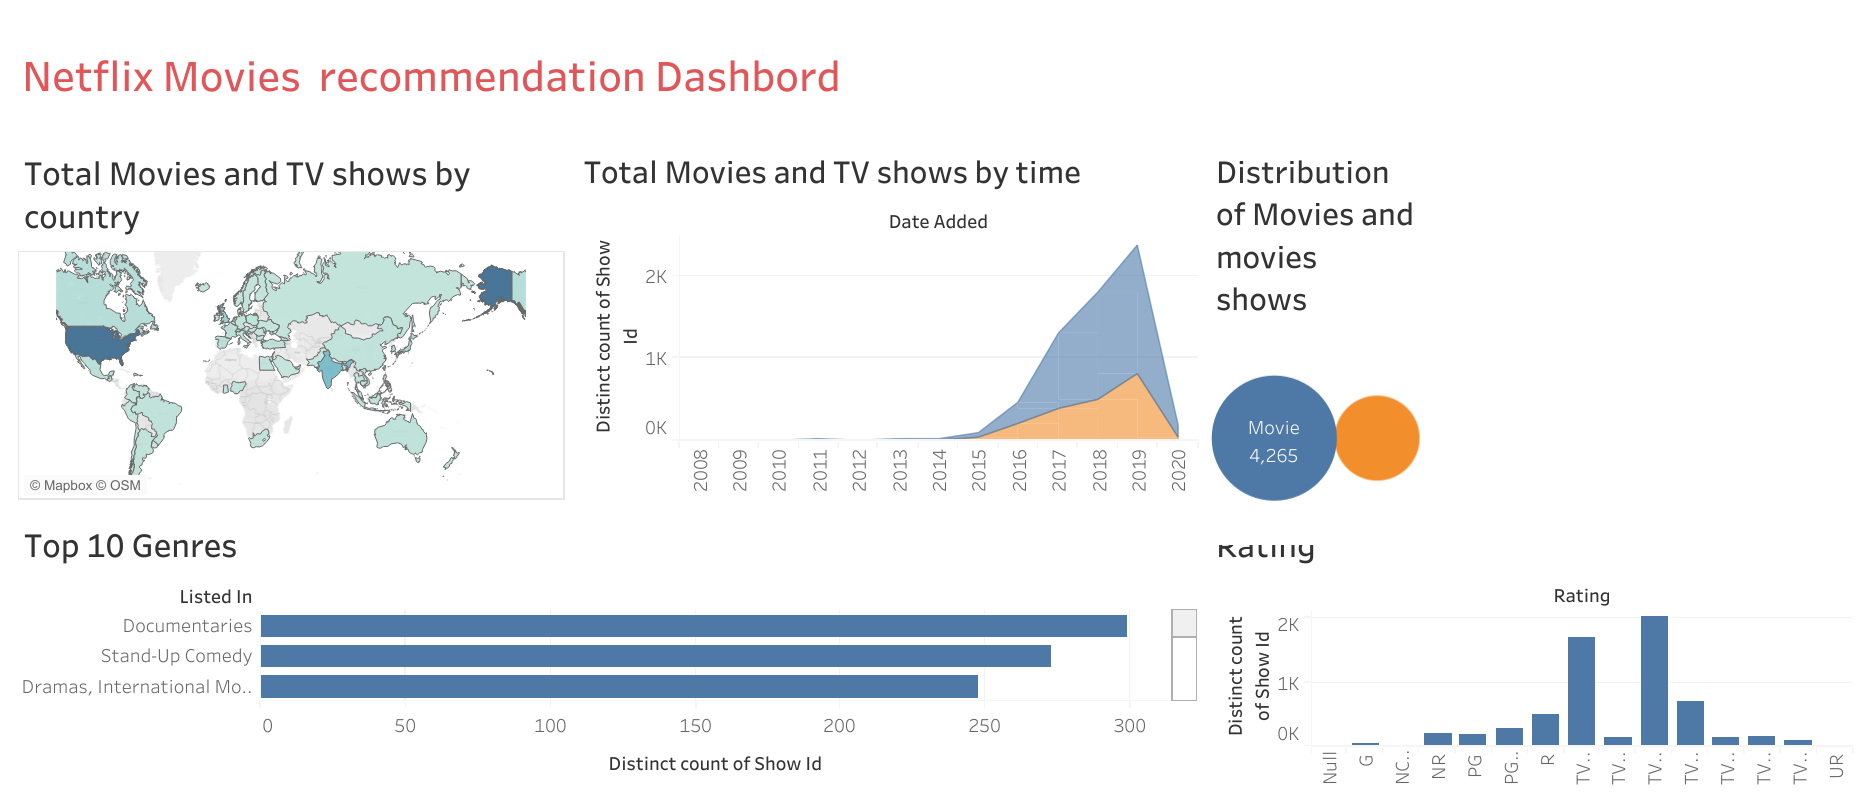

This screenshot's page, from the dashboard's own definition file:
{"tool":"tableau","page":{"name":"Dashboard 1","canvas":[1000,1000],"units":"permille","ordinal":0},"visuals":[{"type":"title","box":[4.8,8.8,990.3,89.2]},{"type":"worksheet","title":"Sheet 2","mark":"Automatic","box":[4.8,98,300.4,504.9]},{"type":"worksheet","title":"Sheet 1","mark":"Area","rows":["show_id"],"cols":["date_added"],"box":[305.2,98,338.5,504.9]},{"type":"worksheet","title":"Sheet 4","mark":"Circle","box":[643.8,98,351.4,504.7]},{"type":"worksheet","title":"Sheet 5","mark":"Automatic","rows":["show_id"],"cols":["rating"],"box":[643.8,602.8,351.4,388.4]},{"type":"worksheet","title":"Sheet 3","mark":"Automatic","rows":["listed_in"],"cols":["show_id"],"box":[4.8,602.9,638.9,388.3]}]}

Visuals, with their boxes on the dashboard's canvas, which has no fixed pixel size, in thousandths of its width and height (x1, y1, x2, y2). These are canvas units, not pixel positions in the 1869x803 screenshot, which may show the page scaled, cropped or inside an application window:
title: (5, 9, 995, 98)
"Sheet 2" worksheet: (5, 98, 305, 603)
"Sheet 1" worksheet (Area marks): (305, 98, 644, 603)
"Sheet 4" worksheet (Circle marks): (644, 98, 995, 603)
"Sheet 5" worksheet: (644, 603, 995, 991)
"Sheet 3" worksheet: (5, 603, 644, 991)
